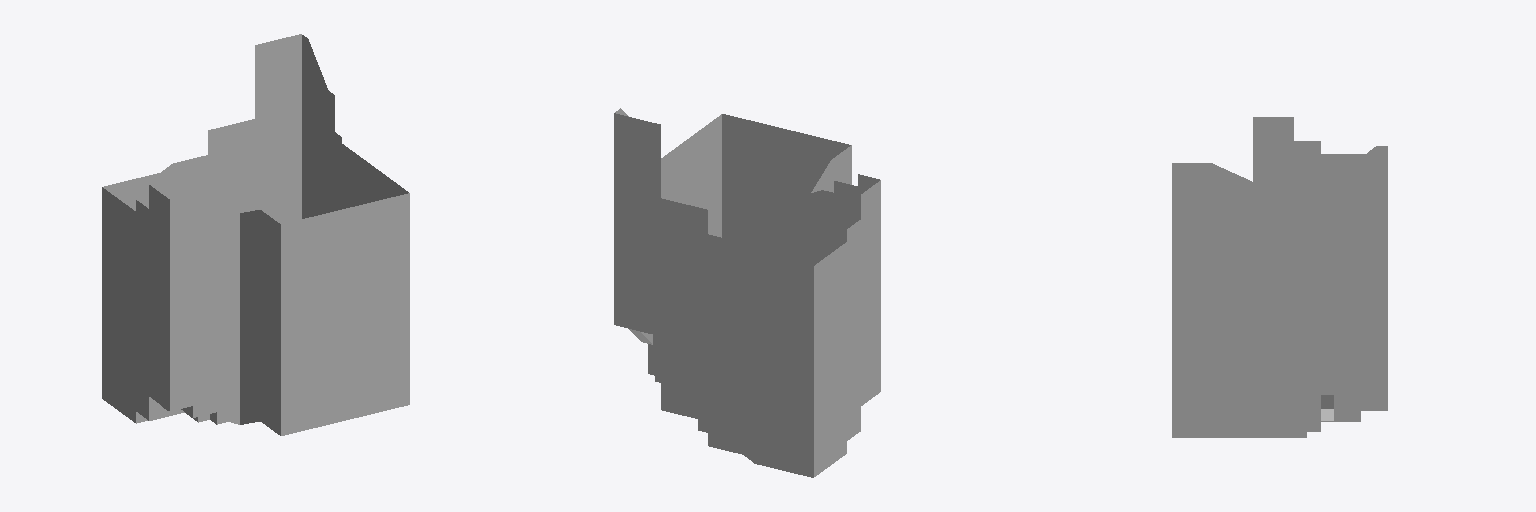
The model's file is clean.obj.
The picture shows the model from 3 angles: view 1: azimuth 30°, elevation 25°; view 2: azimuth 150°, elevation 25°; view 3: azimuth 270°, elevation 25°; orthographic projection.
Visible parts, largest first — view 1: Default.001; view 2: Default.001; view 3: Default.001.
Boxes of the visible parts, <box> form: Default.001: <box>102,34,409,435</box>; Default.001: <box>614,108,880,477</box>; Default.001: <box>1172,117,1387,437</box>.
Size of the model in its own units: 17 by 25.77 by 16.